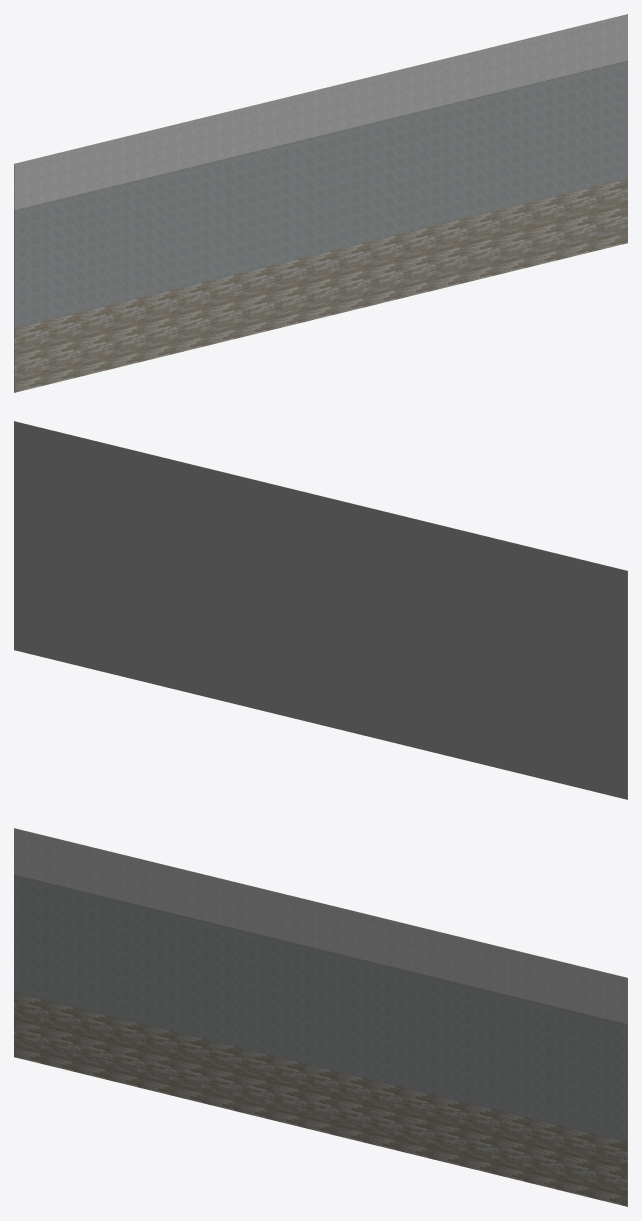
Rendered from room_floor.obj.
3 views of the same model, one above another, from view 1: azimuth 30°, elevation 25°; view 2: azimuth 150°, elevation 25°; view 3: azimuth 330°, elevation 25° (orthographic).
Parts seen in each view (by area): view 1: paint_matte_texture_1, paint_matte_texture_0, paint_matte_texture_2, paint_matte_0; view 2: paint_matte_0; view 3: paint_matte_texture_1, paint_matte_texture_0, paint_matte_texture_2, paint_matte_0.
Boxes of the visible parts, x1,y1,x2,y2 form: paint_matte_texture_1: (14,60,627,327); paint_matte_texture_0: (14,178,627,392); paint_matte_texture_2: (14,14,627,209); paint_matte_0: (14,14,627,392); paint_matte_0: (14,421,627,799); paint_matte_texture_1: (14,874,627,1141); paint_matte_texture_0: (14,992,627,1206); paint_matte_texture_2: (14,828,627,1023); paint_matte_0: (14,828,627,1206).
Bounding box in the file's own units: 26.83 × 9.56 × 0.02.
Materials: 4 (3 with a texture image).
